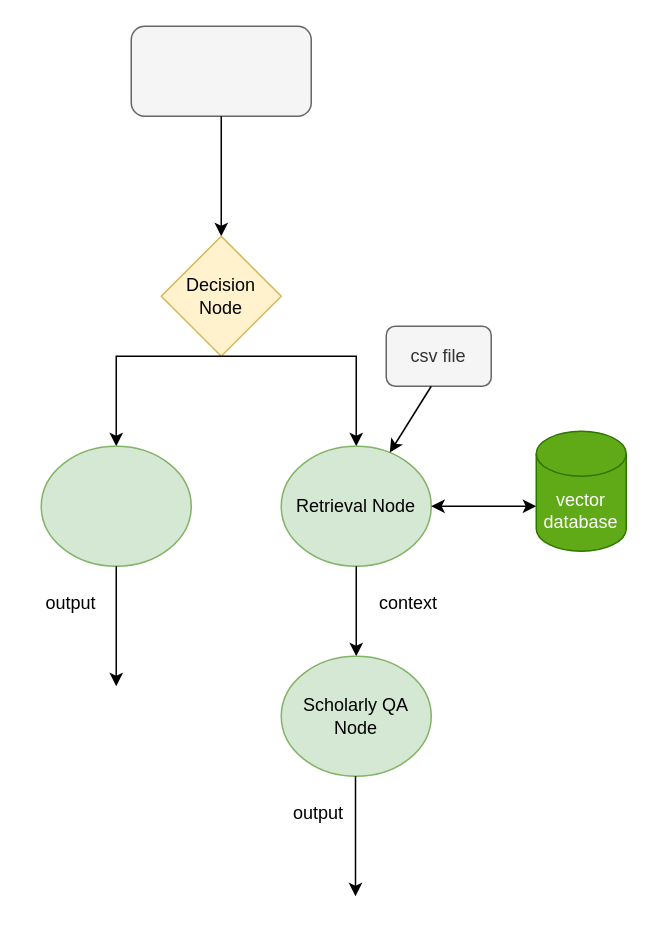
Some shapes in this 653 by 935 pixel diagram are drawn without their labels. The centre of each missing label's shape, as x and y in pixels:
"Chitchat Node" goes at point (115, 505).
"User Message" goes at point (220, 70).
